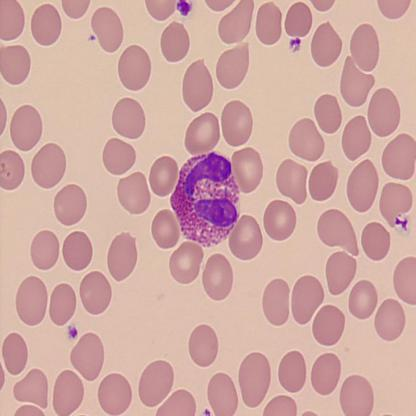Eosinophil: (168, 149, 242, 246)
